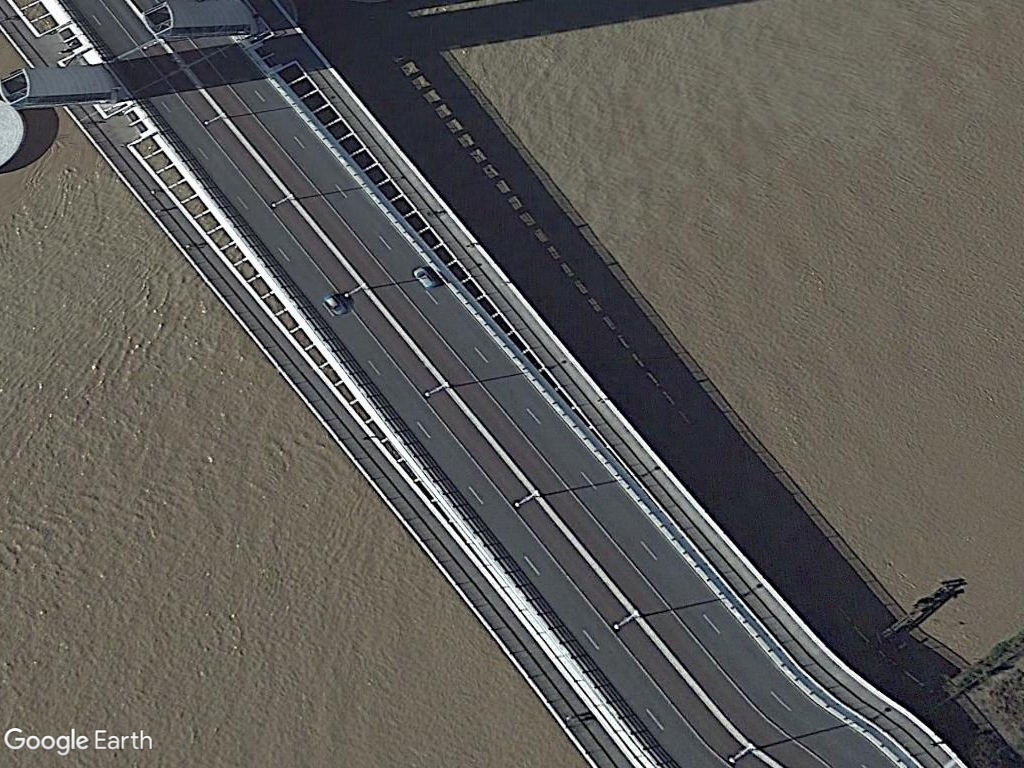car: (408, 263, 441, 294), (319, 292, 350, 320)
